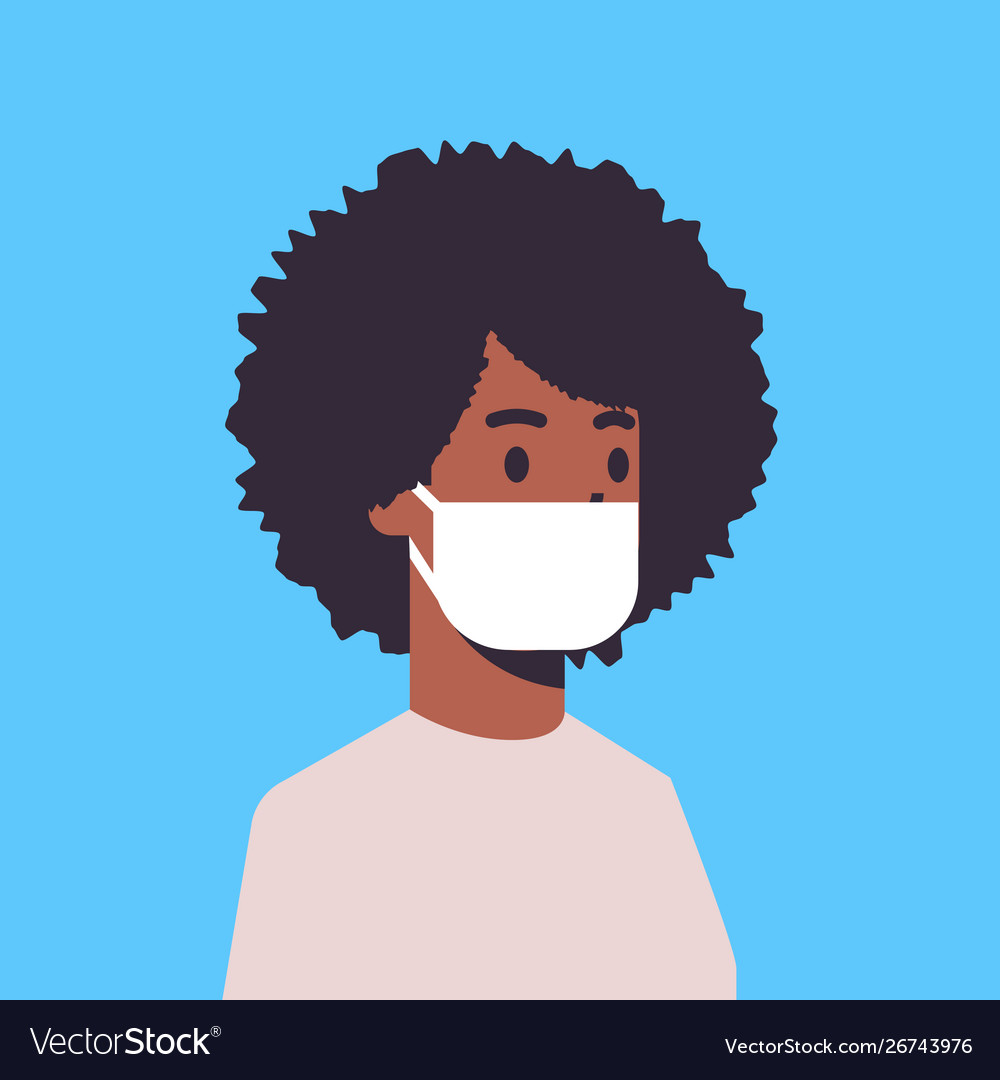mask: (399, 464, 653, 672)
